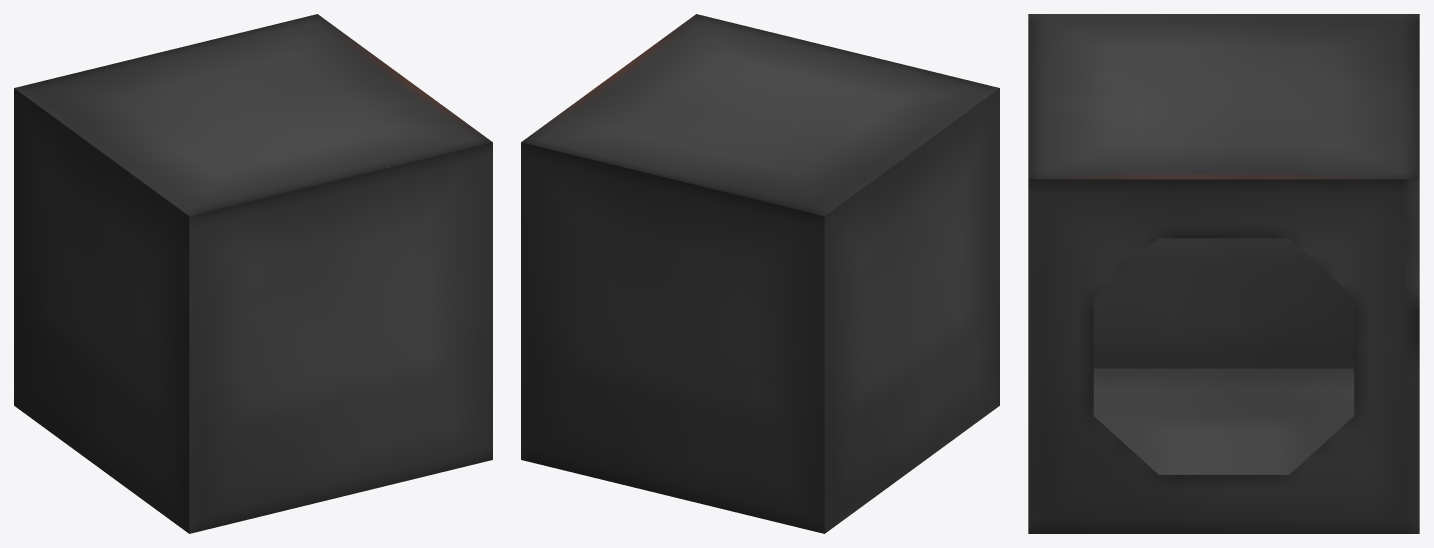
File: firebox_inner_empty.obj
3 views of the same model, side by side, from view 1: azimuth 30°, elevation 25°; view 2: azimuth 150°, elevation 25°; view 3: azimuth 270°, elevation 25° (orthographic). The views are drawn at different scales.
Visible parts, largest first — view 1: InnerEmpty; view 2: InnerEmpty; view 3: InnerEmpty.
Part boxes in pixels (x1,y1,x2,y2): InnerEmpty: (14,14,492,533); InnerEmpty: (521,14,999,533); InnerEmpty: (1028,14,1419,533).
Size of the model in its own units: 0.75 by 0.75 by 0.75.
